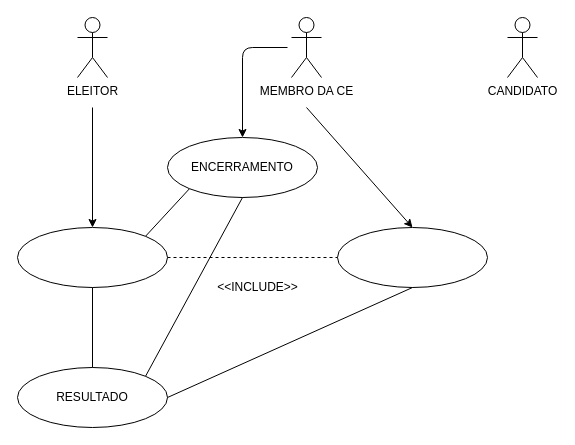
The diagram is 575 pixels wide and 445 high, and some of its shapes have lost their labels. The shapes that lost their labels are listed below. From the top down, each one's centre as x and y in pixels, then its label:
At pixel 92 257: "VOTAÇÃO".
At pixel 412 257: "CANDIDATOS".
